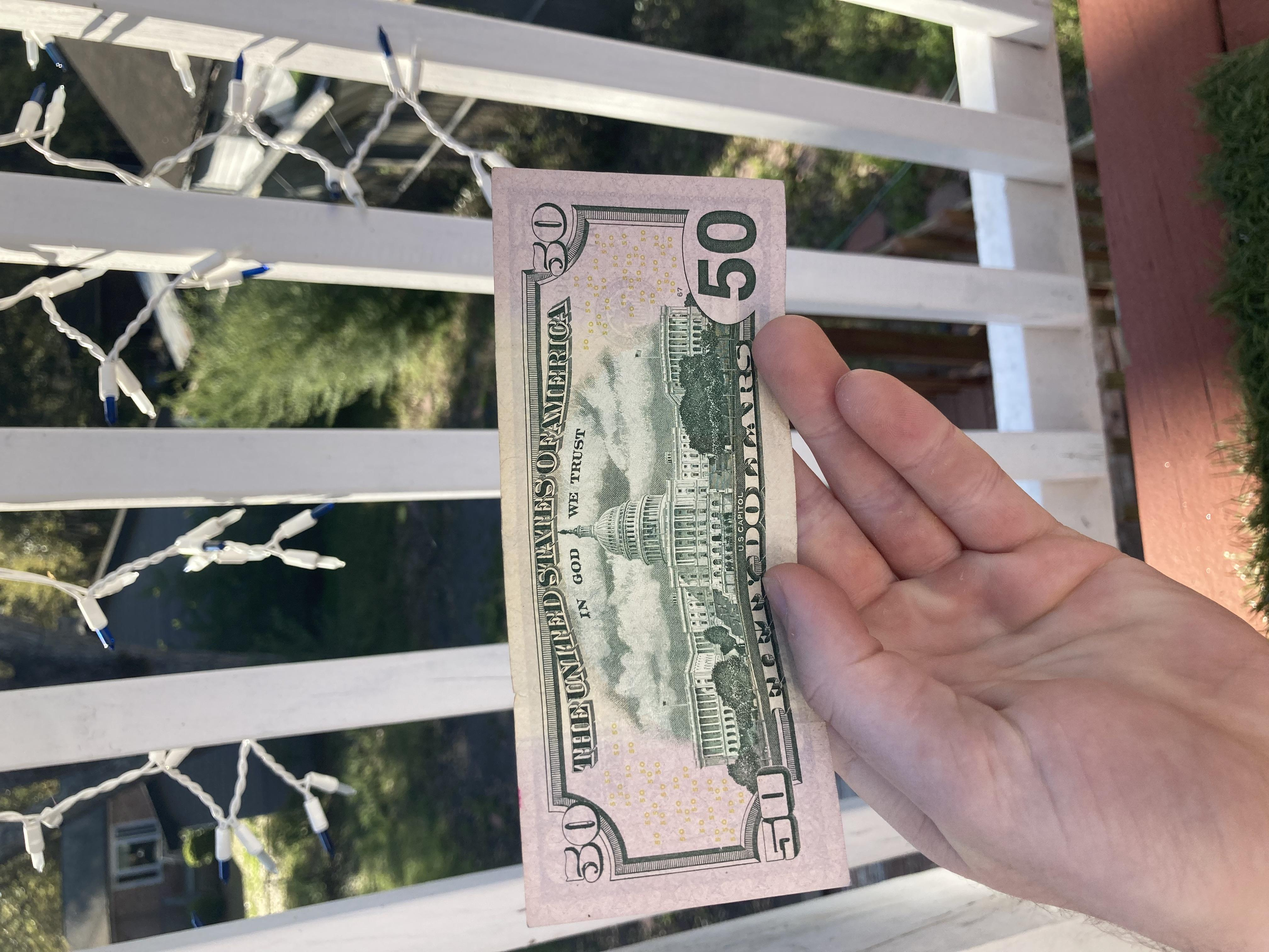fifty-back: (31, 368, 1046, 640)
